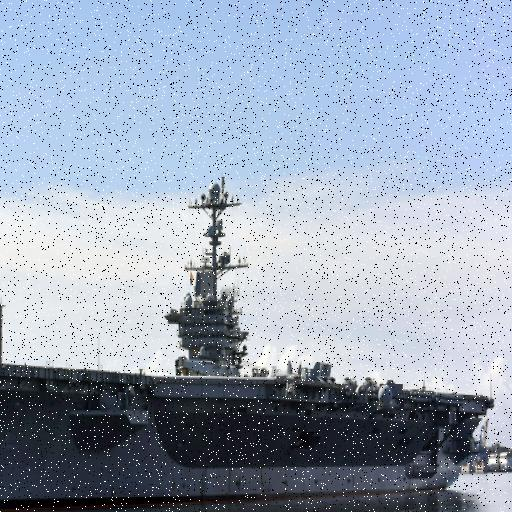Portanaves: (1, 171, 501, 512)
